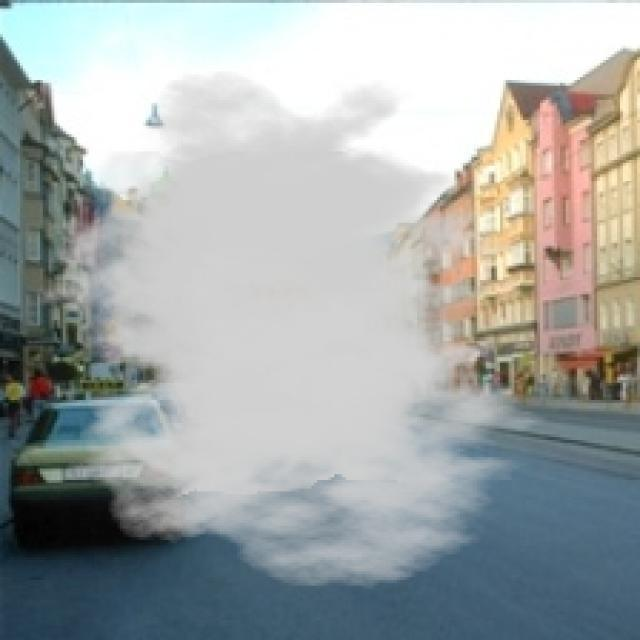Smoke: (26, 69, 572, 588)
